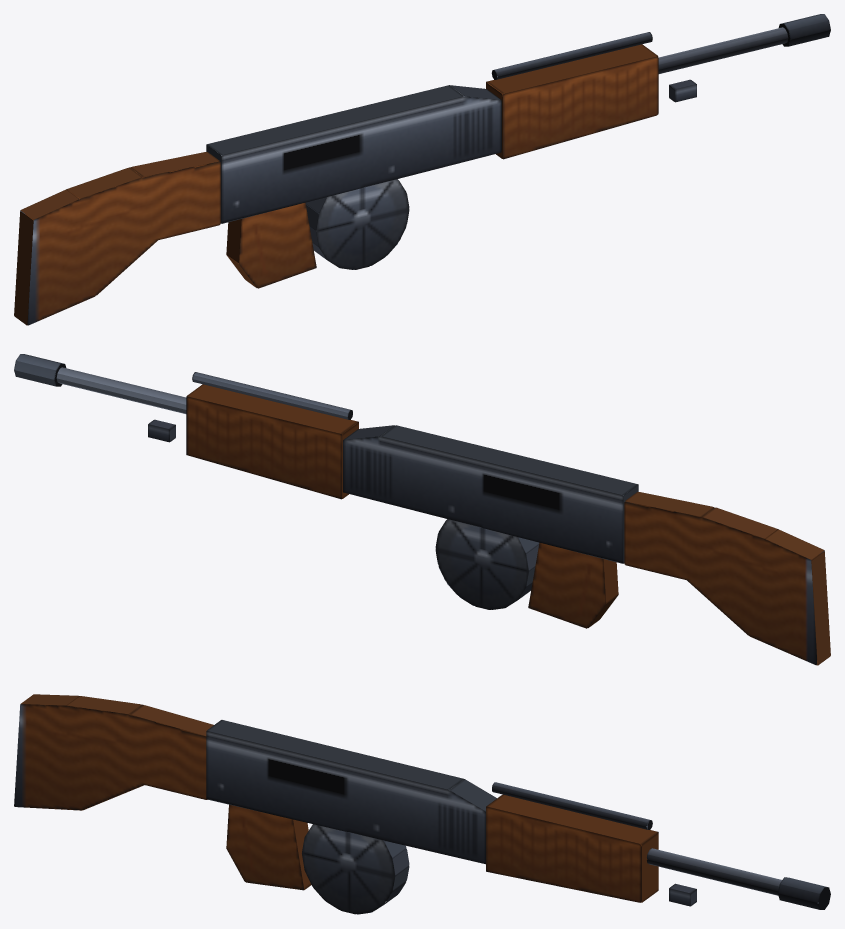
The model's file is lmg_model.obj.
3 renders of one model, top to bottom at view 1: azimuth 30°, elevation 25°; view 2: azimuth 150°, elevation 25°; view 3: azimuth 330°, elevation 25°, orthographic.
Size of the model in its own units: 51.6 by 9.75 by 1.9.
Materials: 1 (1 with a texture image).
